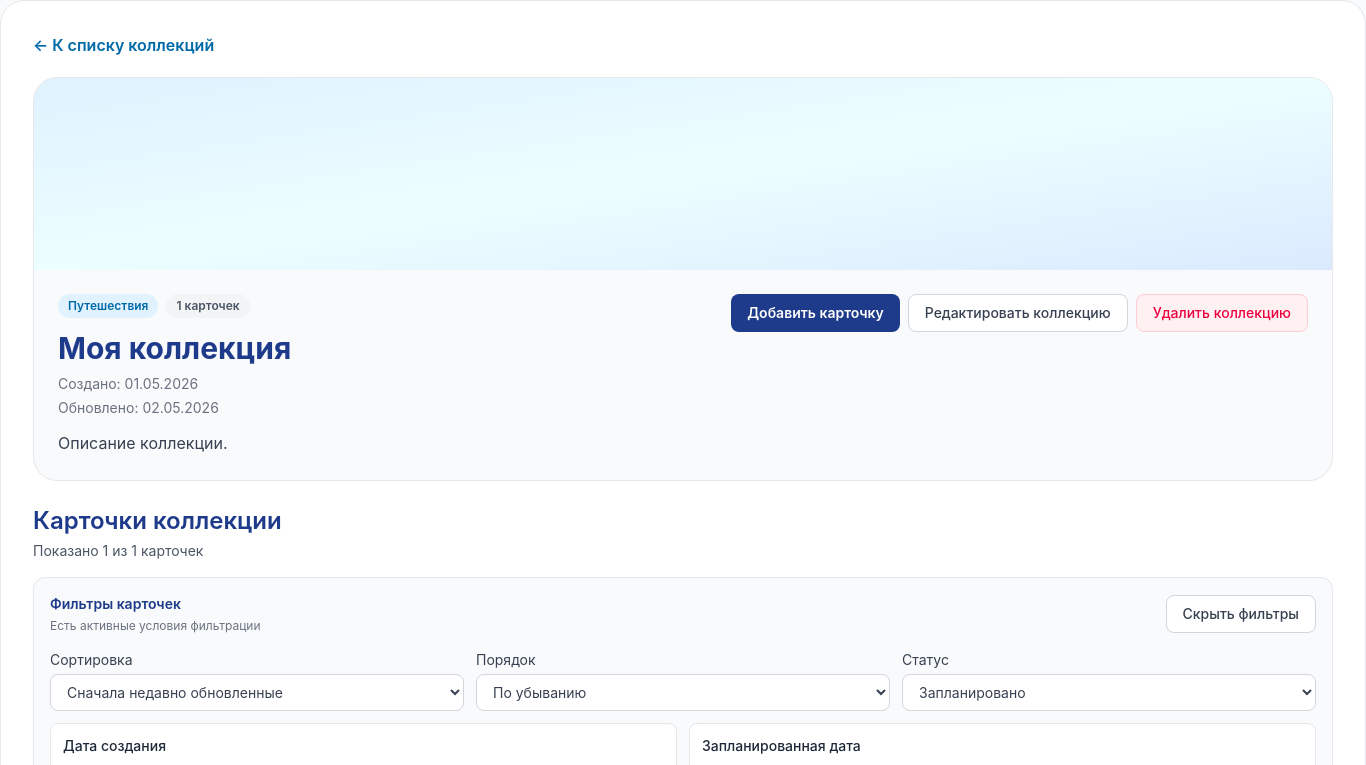
CollectionDetailPage smoke › loads detail and supports filter UI
Expected: the heading "Моя коллекция" is shown, top-left (58, 330), bottom-right (291, 366)
Click the button "Скрыть фильтры". click: click(1241, 614)
box: top-left (1166, 595), bottom-right (1316, 633)
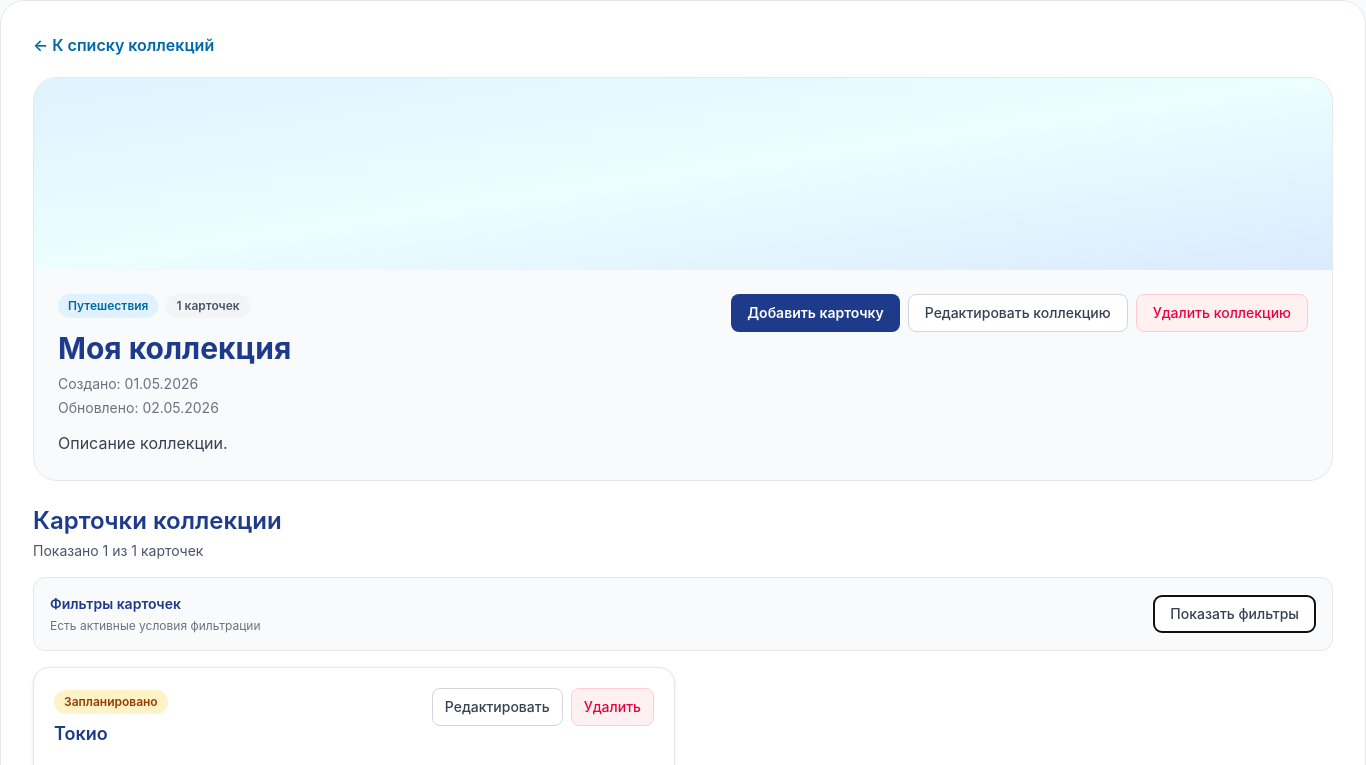
Now the button "Показать фильтры" is shown, box top-left (1153, 595), bottom-right (1316, 633)
